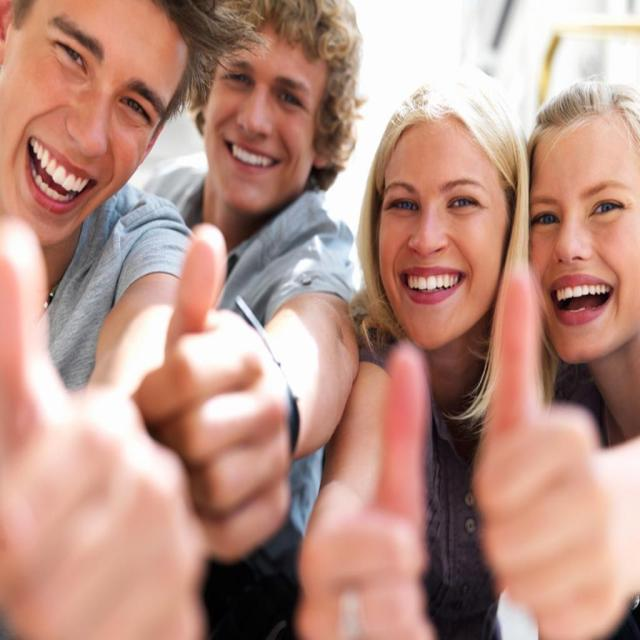Face: (6, 1, 178, 240), (521, 96, 640, 376), (368, 118, 512, 337), (199, 35, 349, 222)
